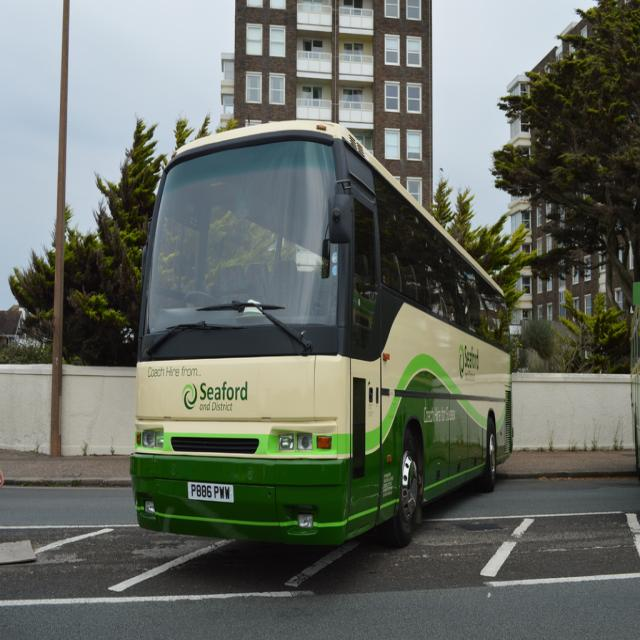Buses: (120, 120, 514, 561)
